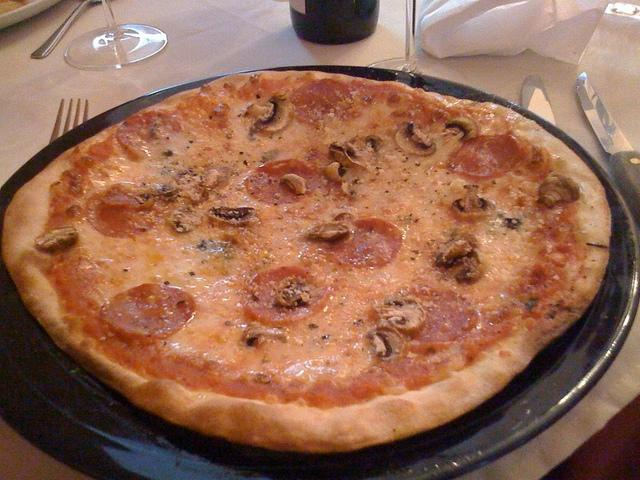mushroom: (432, 228, 482, 282), (372, 297, 426, 335), (536, 172, 580, 209), (394, 120, 438, 157), (366, 325, 406, 365), (241, 100, 290, 132), (450, 185, 496, 216), (36, 226, 78, 253), (330, 138, 367, 168), (245, 321, 286, 347), (306, 218, 350, 241), (207, 205, 257, 225), (170, 204, 204, 232), (445, 116, 478, 140), (131, 182, 181, 196), (279, 172, 308, 196), (275, 287, 302, 308), (326, 162, 344, 183), (365, 134, 382, 152), (137, 190, 151, 202)
